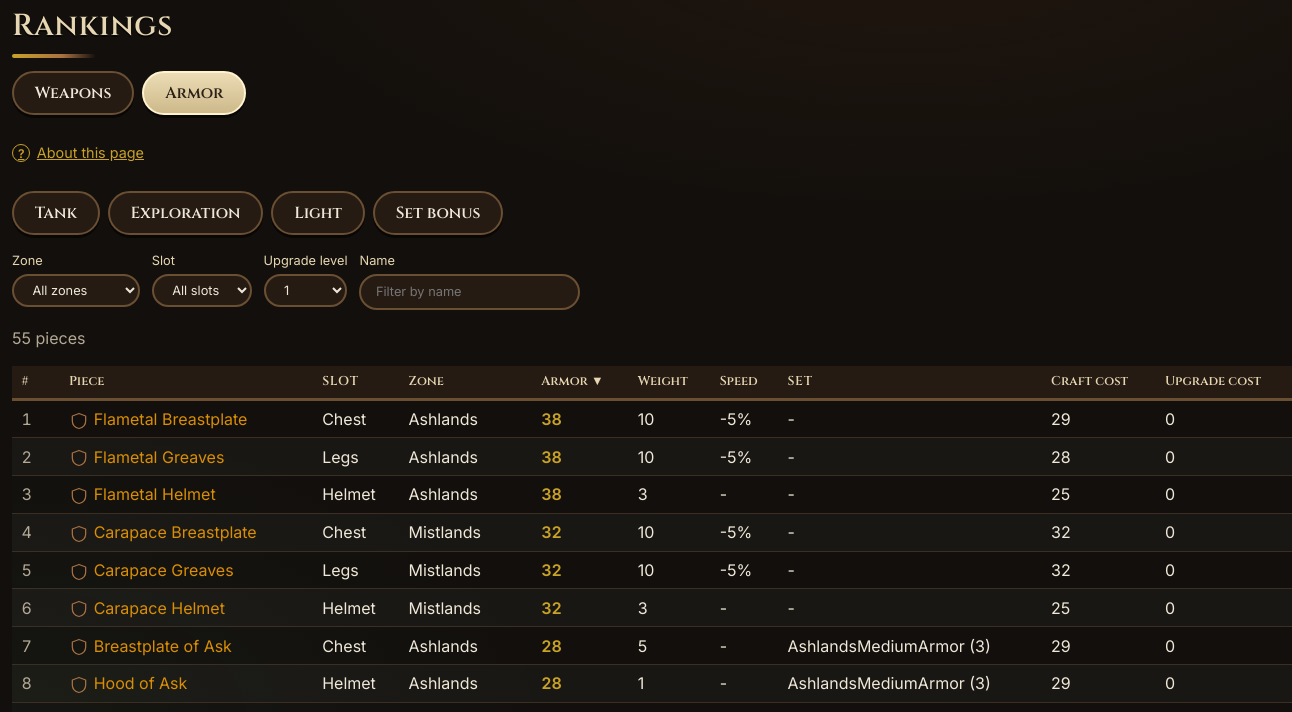
Test: armor rankings page › can be limited to a zone and slot, and says so when nothing matches
Select "Cape" in the dropdown labelled "Slot" at (202, 290), box [152,274,252,307]
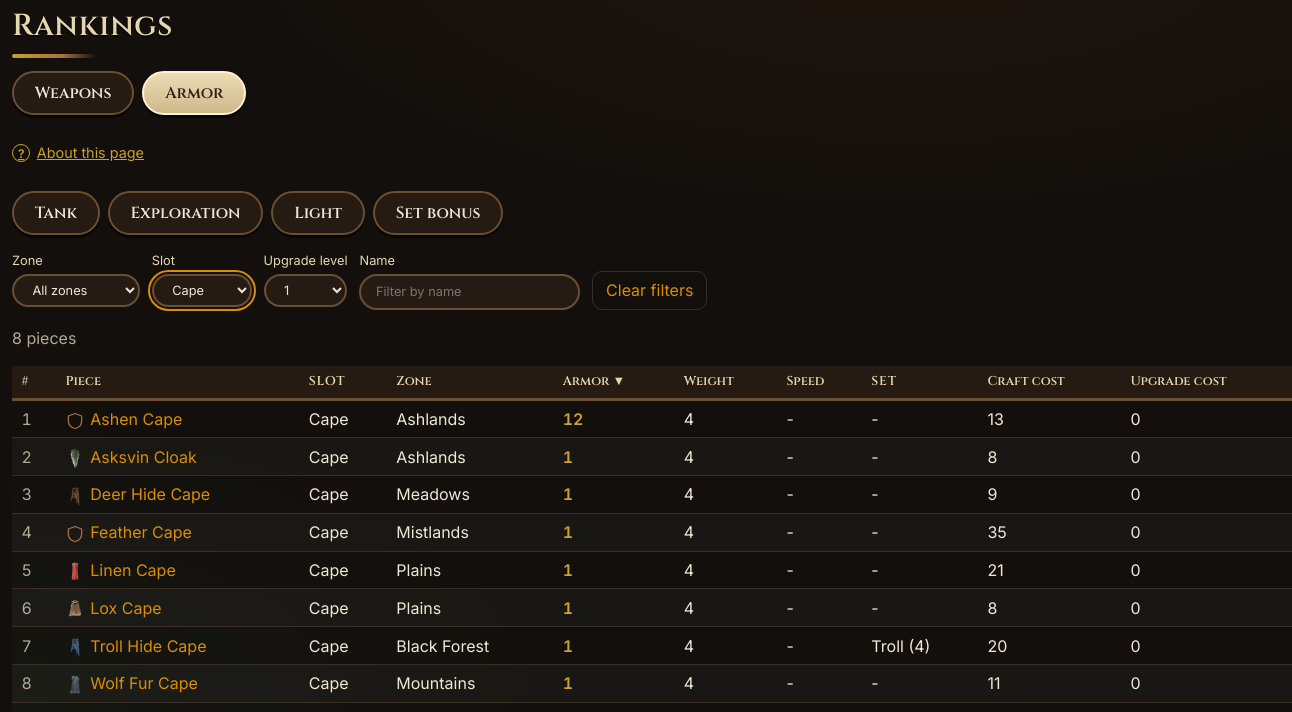
Type "zzzz" into the search field labelled "Name" at (470, 292), box [360,274,580,310]
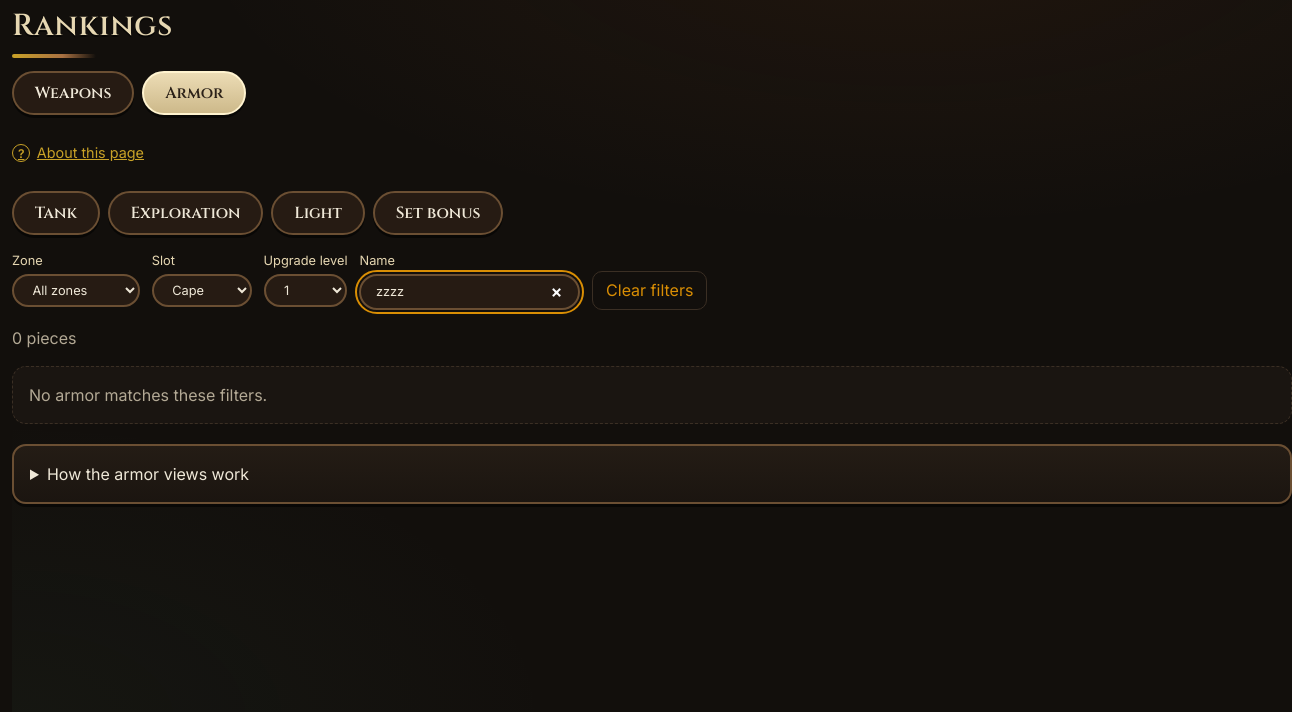
Expected: the text "No armor matches these filters." is shown, [12,366,1291,424]
